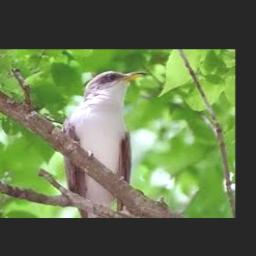Cuckoo: (61, 70, 146, 218)
